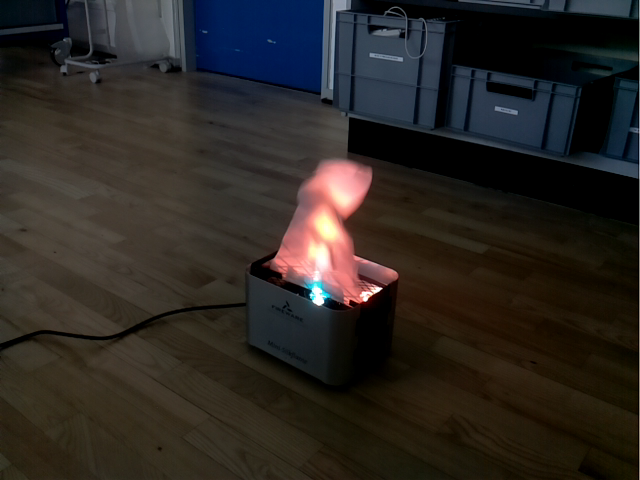fire: (270, 156, 373, 309)
